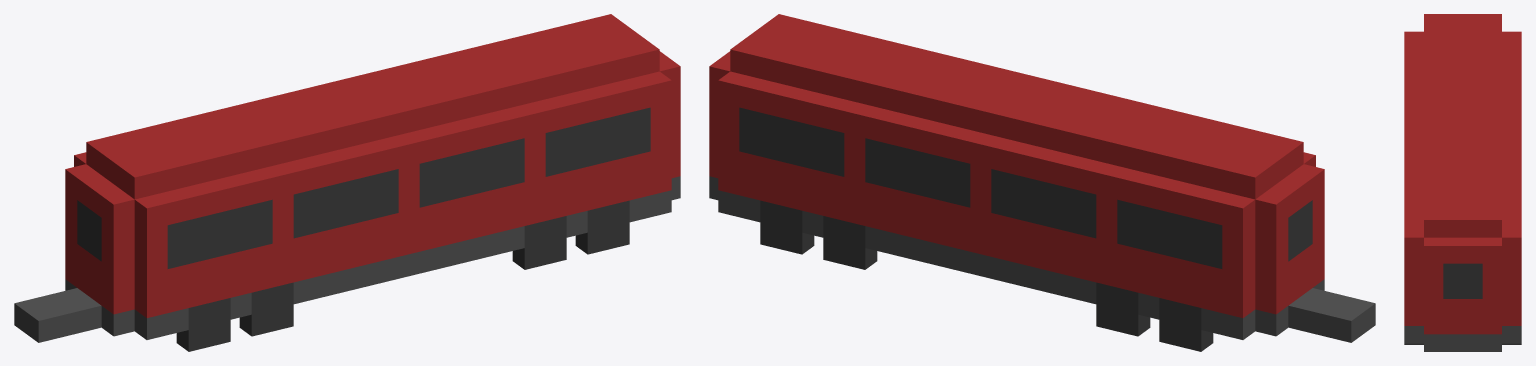
Rendered from train-trailer-v4-red.gltf.
The picture shows the model from 3 angles, left to right: view 1: azimuth 30°, elevation 25°; view 2: azimuth 150°, elevation 25°; view 3: azimuth 270°, elevation 25°; orthographic projection. The views are drawn at different scales.
Visible parts, largest first — view 1: model, wheels; view 2: model, wheels; view 3: model.
Part boxes in pixels (box(x1,y1,x2,y2)): model: box(14, 14, 680, 342); wheels: box(176, 200, 629, 351); model: box(709, 14, 1375, 342); wheels: box(760, 200, 1213, 351); model: box(1404, 14, 1521, 351).
Bounding box in the file's own units: 3 × 0.8 × 0.6.
Materials: 2 (2 with a texture image).
